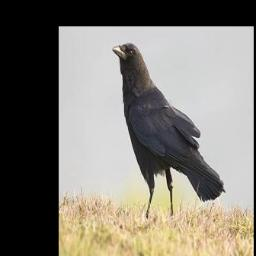Crow: (110, 41, 225, 219)
